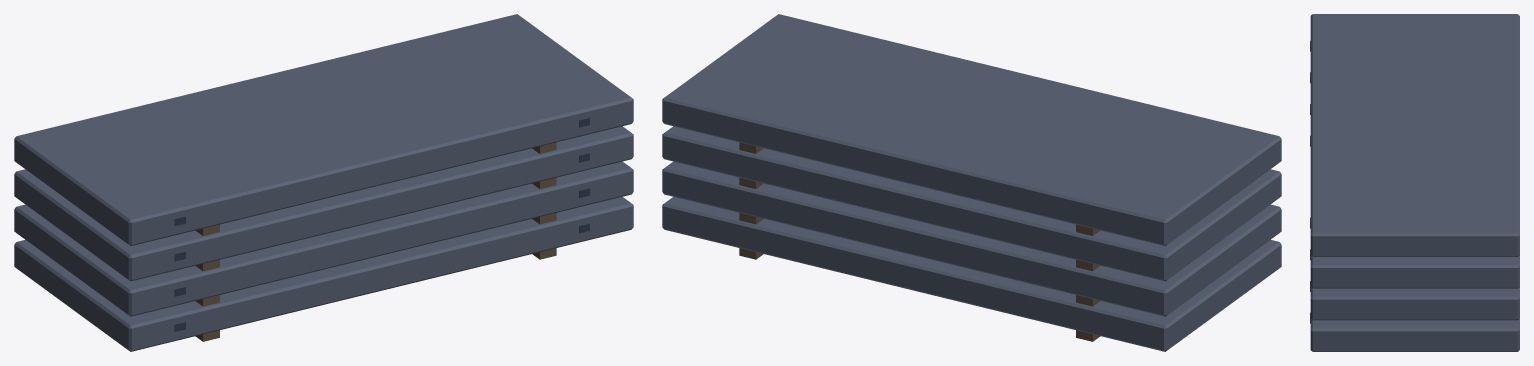
File: build_precast_stack.glb
3 views of the same model, side by side, from view 1: azimuth 30°, elevation 25°; view 2: azimuth 150°, elevation 25°; view 3: azimuth 270°, elevation 25° (orthographic). The views are drawn at different scales.
Visible parts, largest first — view 1: concrete_raw_cast, formwork_plywood, trim; view 2: concrete_raw_cast, formwork_plywood; view 3: concrete_raw_cast.
Part boxes in pixels (left/top/right/bottom): concrete_raw_cast: left=14, top=14, right=633, bottom=351; formwork_plywood: left=195, top=142, right=556, bottom=341; trim: left=174, top=118, right=589, bottom=331; concrete_raw_cast: left=662, top=14, right=1281, bottom=351; formwork_plywood: left=739, top=142, right=1100, bottom=341; concrete_raw_cast: left=1310, top=14, right=1519, bottom=351.
Size of the model in its own units: 6 by 1.6 by 2.41.
